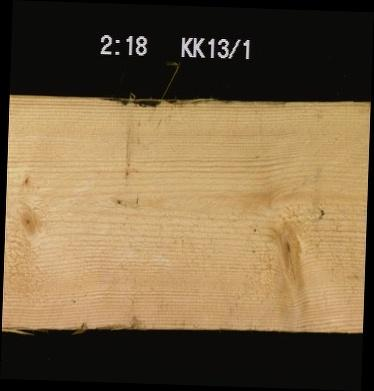small_knot: (14, 168, 37, 189)
sound_knot: (12, 201, 39, 241)
